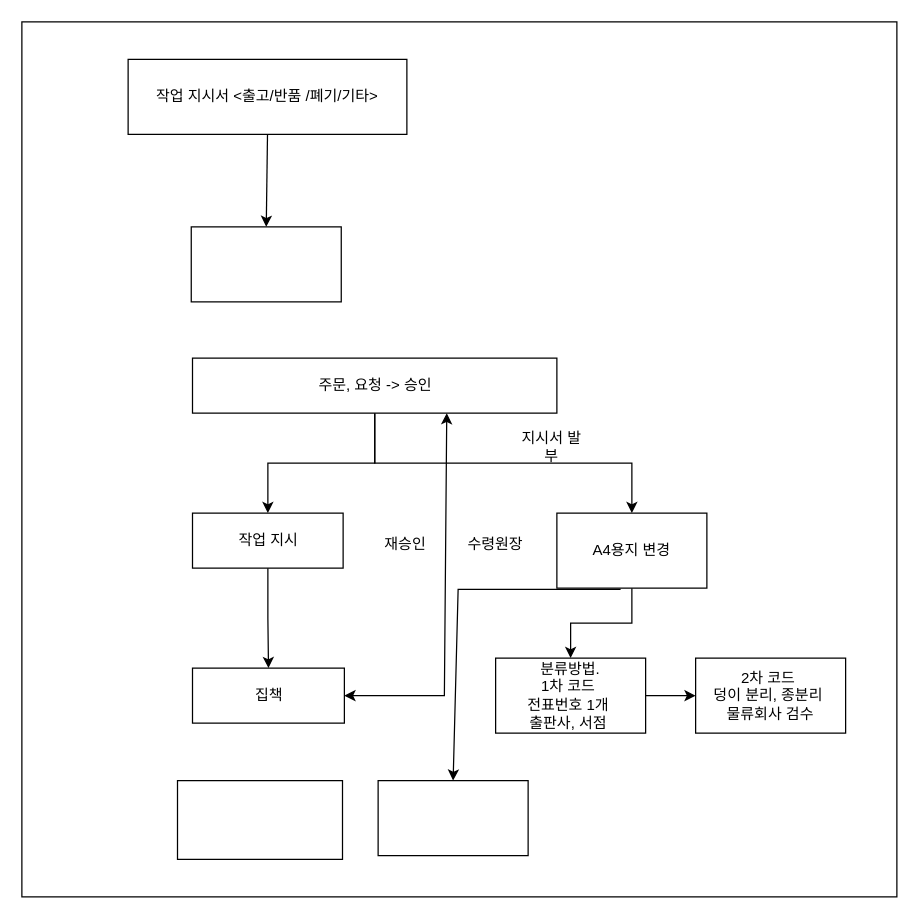
Image size: 919x919. Some labels were removed from this diagram. The centre of each missing label's shape, as x and y in pixels:
"1)작업마감분리편리 2) 배송현장 작업 편리 3) 서점에서 인수" goes at [259,819].
"OMS(플랫폼)" goes at [265,264].
"미래 작업 방향 전표 분리(덩이 구별), 종 분리" goes at [452,817].
